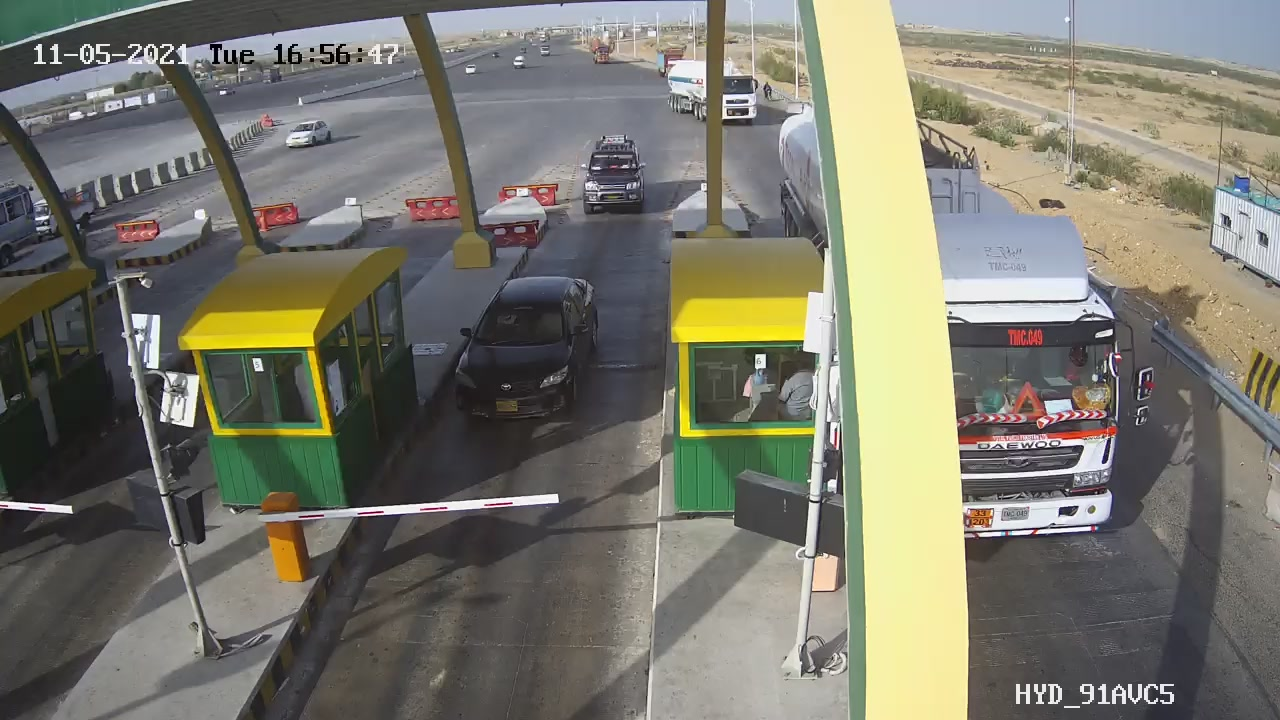F1: (429, 256, 626, 464)
